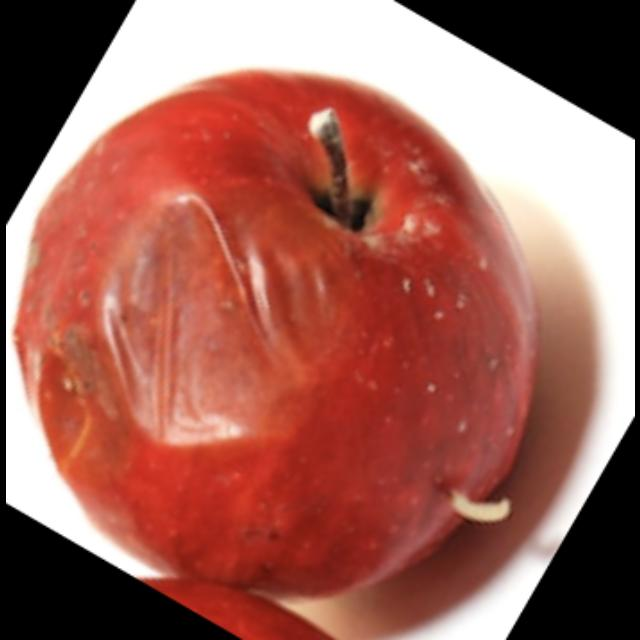Apel Tidak Segar: (15, 67, 540, 598)
